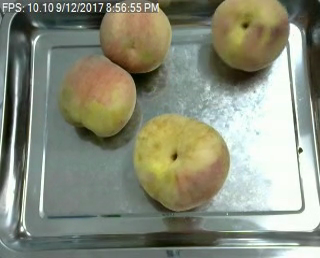Peach: (133, 113, 229, 212), (58, 53, 136, 138), (212, 0, 289, 70), (99, 0, 172, 72)
